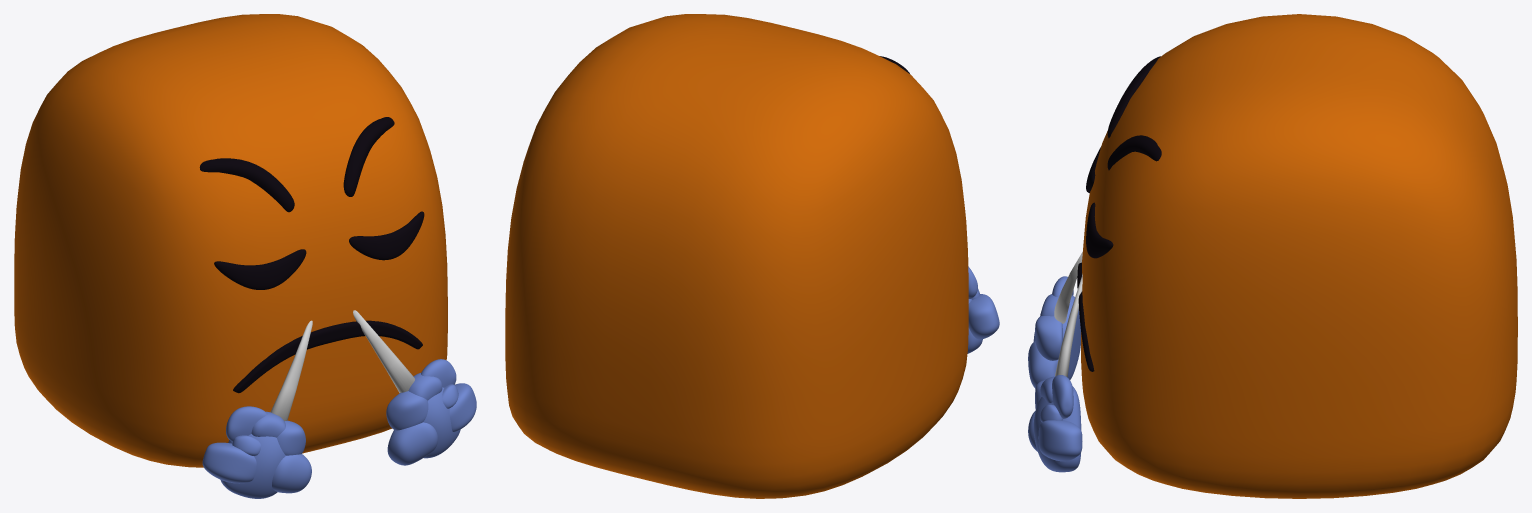
Rendered from Emoji 100 face with steam from nose.fbx.
The picture shows the model from 3 angles, left to right: view 1: azimuth 30°, elevation 25°; view 2: azimuth 150°, elevation 25°; view 3: azimuth 270°, elevation 25°; orthographic projection. The views are drawn at different scales.
Parts seen in each view (by area): view 1: Emoji 100 face with steam from nose, Cube.067, Eyes.051, Cube.066, Cylinder.012, Cube.065; view 2: Emoji 100 face with steam from nose, Cube.067; view 3: Emoji 100 face with steam from nose, Cube.067, Cube.066, Cylinder.012, Eyes.051, Cube.065.
Boxes of the visible parts, <box> form: Emoji 100 face with steam from nose: <box>14,14,447,467</box>; Cube.067: <box>202,359,476,498</box>; Eyes.051: <box>214,211,424,289</box>; Cube.066: <box>199,117,394,212</box>; Cylinder.012: <box>270,310,414,421</box>; Cube.065: <box>233,320,422,393</box>; Emoji 100 face with steam from nose: <box>505,14,968,498</box>; Cube.067: <box>967,266,999,353</box>; Emoji 100 face with steam from nose: <box>1081,14,1517,498</box>; Cube.067: <box>1028,276,1082,472</box>; Cube.066: <box>1107,56,1161,170</box>; Cylinder.012: <box>1054,251,1082,377</box>; Eyes.051: <box>1086,146,1113,258</box>; Cube.065: <box>1077,262,1094,371</box>.
Bounding box in the file's own units: 95.83 × 112 × 95.83.
